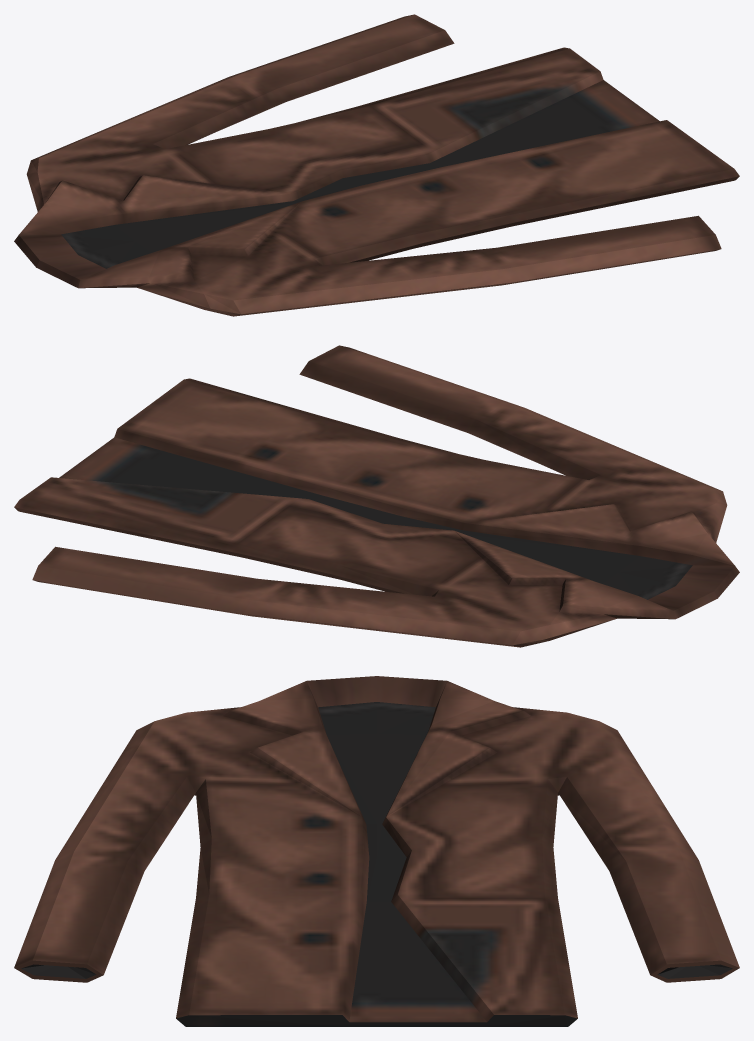
Rendered from TianZhuJiaoTang_01_fengyi_01.FBX.
The picture shows the model from 3 angles, top to bottom: view 1: azimuth 30°, elevation 25°; view 2: azimuth 150°, elevation 25°; view 3: azimuth 270°, elevation 25°; orthographic projection. The views are drawn at different scales.
Visible parts, largest first — view 1: TianZhuJiaoTang_01_fengyi_01; view 2: TianZhuJiaoTang_01_fengyi_01; view 3: TianZhuJiaoTang_01_fengyi_01.
Part boxes in pixels (x1=…): TianZhuJiaoTang_01_fengyi_01: x1=14, y1=14, x2=739, y2=316; TianZhuJiaoTang_01_fengyi_01: x1=14, y1=345, x2=739, y2=647; TianZhuJiaoTang_01_fengyi_01: x1=14, y1=676, x2=739, y2=1026.
Size of the model in its own units: 563 by 17.77 by 502.
